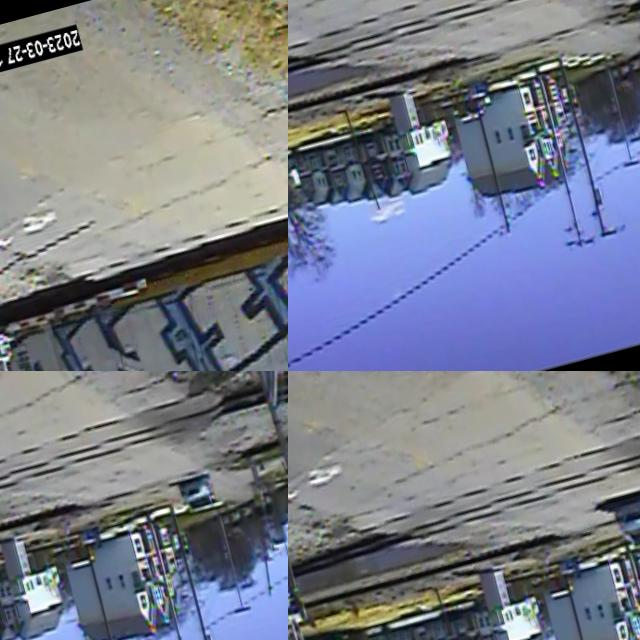barrier: (288, 200, 338, 371), (243, 528, 284, 604)
barrier-closed: (0, 272, 158, 350)
car: (602, 473, 640, 563), (173, 466, 220, 522)
rails: (288, 384, 640, 605), (288, 430, 640, 635), (0, 399, 288, 606), (288, 0, 640, 168), (0, 371, 288, 571), (288, 0, 640, 127)
traffic-signal: (288, 53, 332, 215), (0, 510, 44, 640), (0, 278, 50, 371), (288, 530, 330, 640), (230, 444, 282, 532), (621, 1, 640, 78)
train: (0, 159, 288, 371)
